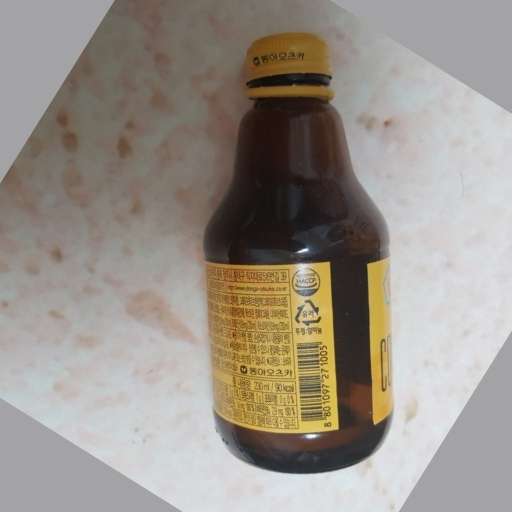Glass_3: (207, 32, 393, 474)
